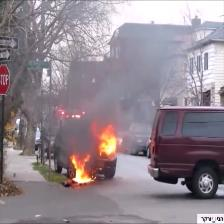fire: (70, 156, 93, 184), (99, 125, 115, 157)
smoke: (122, 37, 158, 120), (68, 74, 119, 124), (69, 126, 91, 154)
